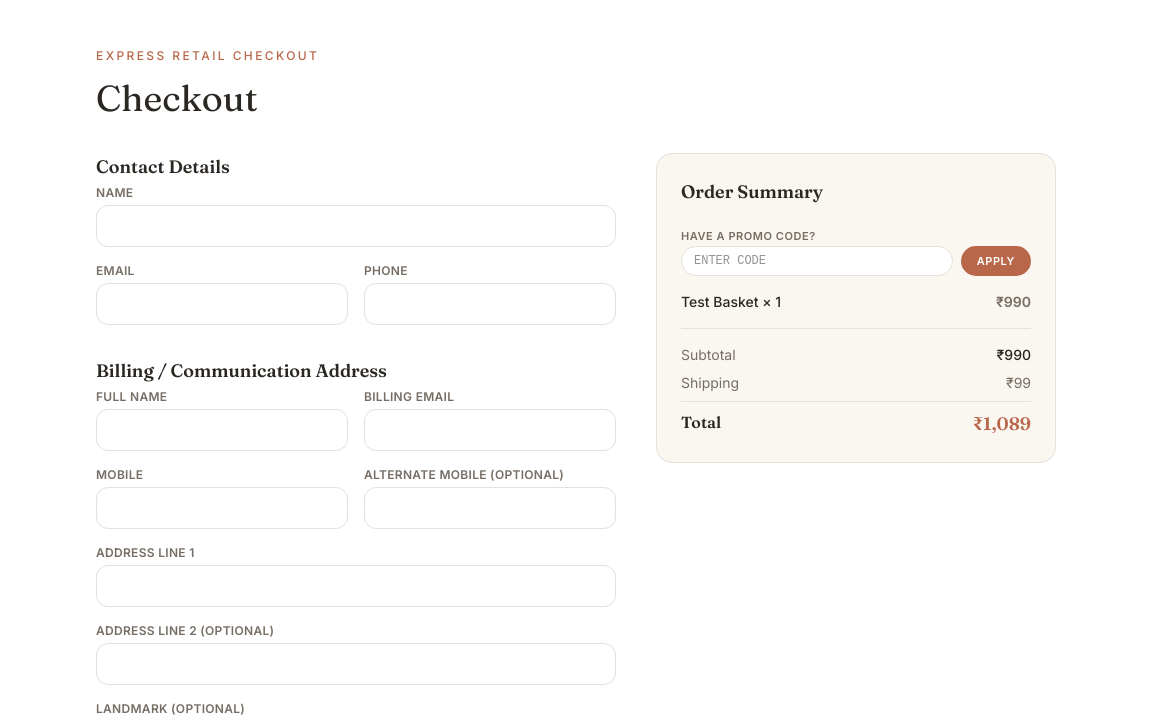
Test case: CheckoutPage › shows the backend's error for an invalid coupon and never invents a discount client-side
Expected: the text "₹1,089" is shown, [973,410,1031,438]
In the field named "Coupon code": (817, 261) [681,246,953,276], type "BADCODE"
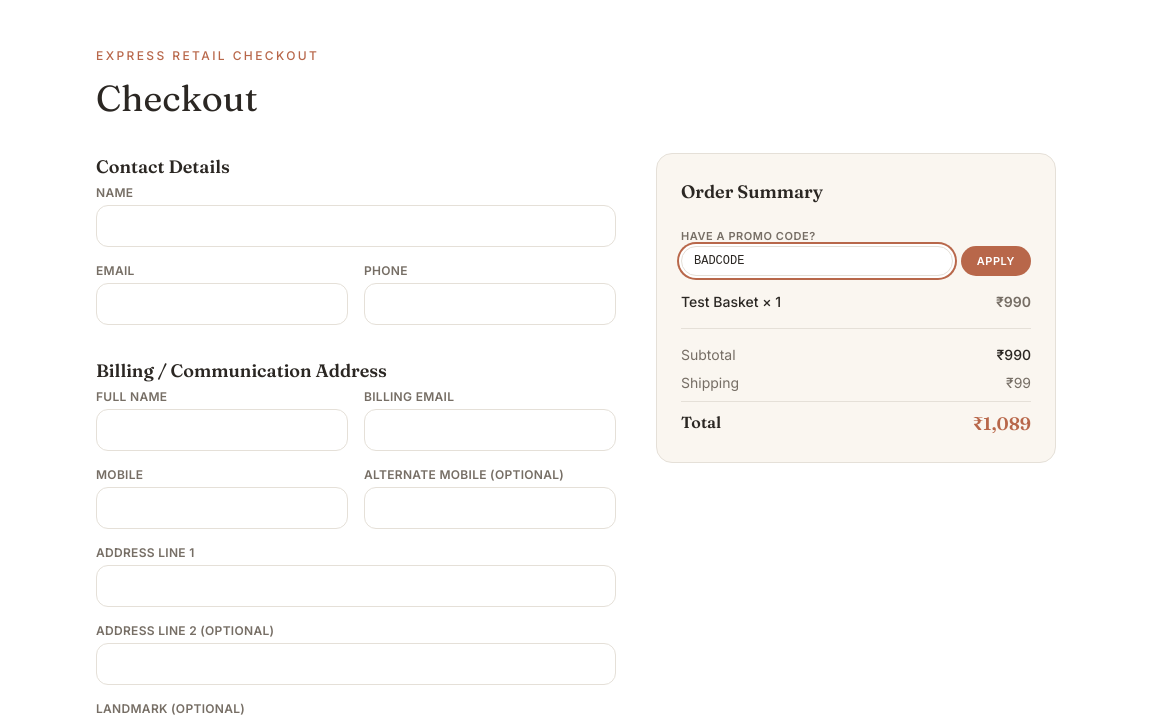
Click the button "Apply": (996, 261) [961,246,1031,276]
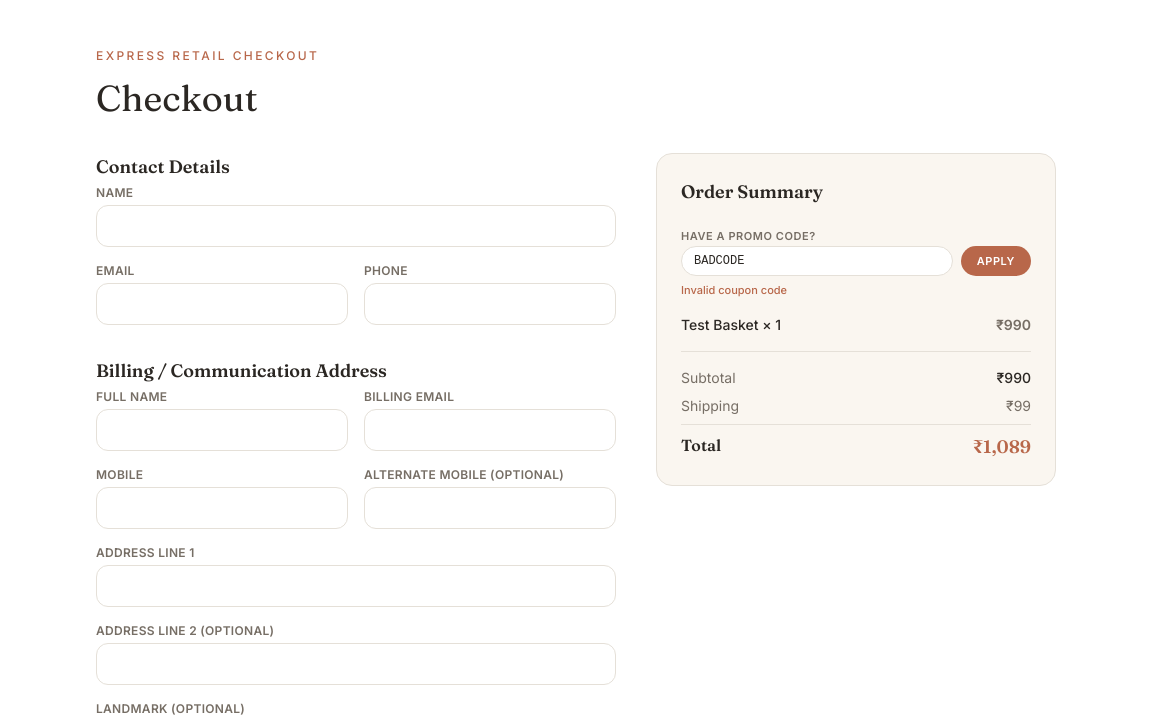
Expected: the text "Invalid coupon code" is shown, [681,283,787,297]
